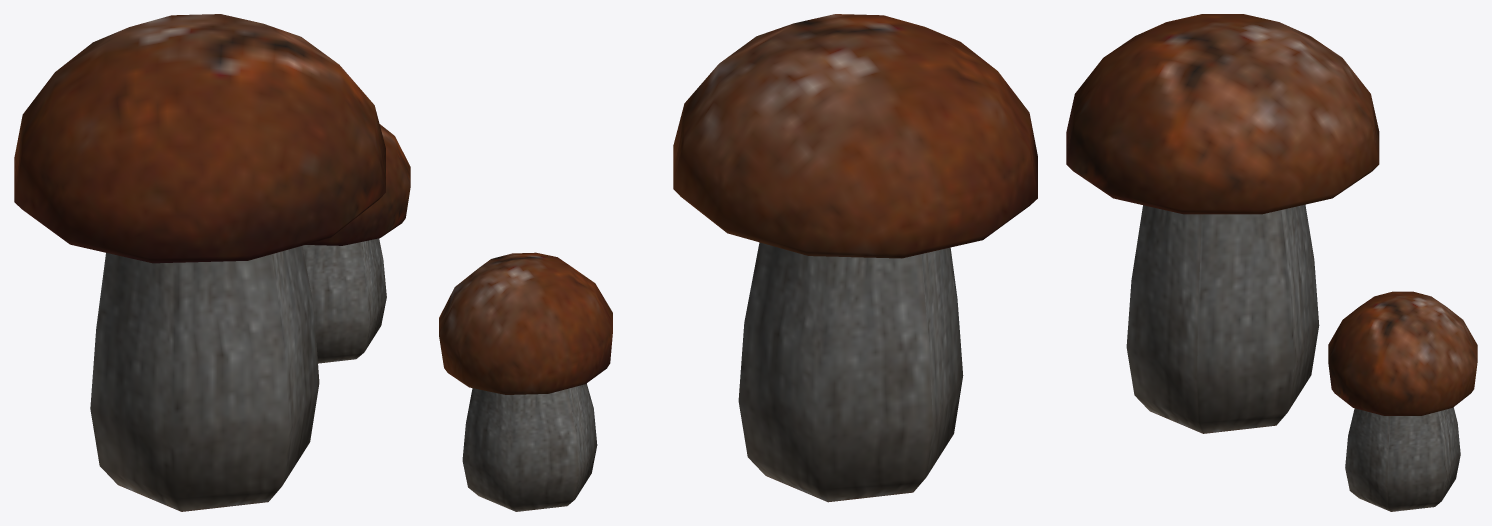
Rendered from mushroom_n_1_2.obj.
The picture shows the model from 3 angles, left to right: view 1: azimuth 30°, elevation 25°; view 2: azimuth 150°, elevation 25°; view 3: azimuth 270°, elevation 25°; orthographic projection. The views are drawn at different scales.
Parts seen in each view (by area): view 1: mushroom_n_1_2; view 2: mushroom_n_1_2; view 3: mushroom_n_1_2.
Part boxes in pixels (x1,y1,x2,y2): mushroom_n_1_2: [14, 14, 410, 511]; mushroom_n_1_2: [439, 14, 1037, 511]; mushroom_n_1_2: [1066, 14, 1477, 511].
Bounding box in the file's own units: 0.1455 × 0.1306 × 0.1319.
